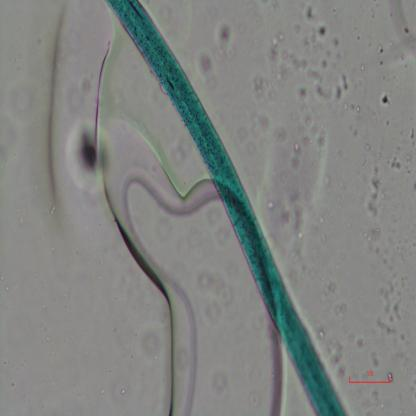Air bubble: (108, 119, 288, 413), (37, 14, 118, 214)
Background material: (250, 33, 303, 107), (69, 119, 112, 194), (306, 36, 347, 103), (190, 259, 232, 323), (355, 214, 402, 264), (318, 269, 350, 331), (277, 186, 310, 240), (289, 111, 321, 166), (372, 283, 404, 334), (364, 162, 381, 219), (211, 24, 236, 61), (327, 337, 348, 376), (196, 50, 218, 80), (289, 249, 311, 278), (306, 23, 327, 47), (206, 375, 228, 396), (403, 126, 416, 160), (334, 74, 348, 101), (373, 41, 386, 68), (296, 5, 316, 20), (378, 88, 392, 108), (389, 158, 403, 175), (400, 21, 411, 42), (260, 199, 278, 210), (349, 97, 361, 111), (349, 123, 358, 139), (248, 392, 259, 404), (356, 30, 363, 43), (360, 59, 366, 73), (368, 145, 371, 154)
Microfibre: (106, 0, 348, 415)
